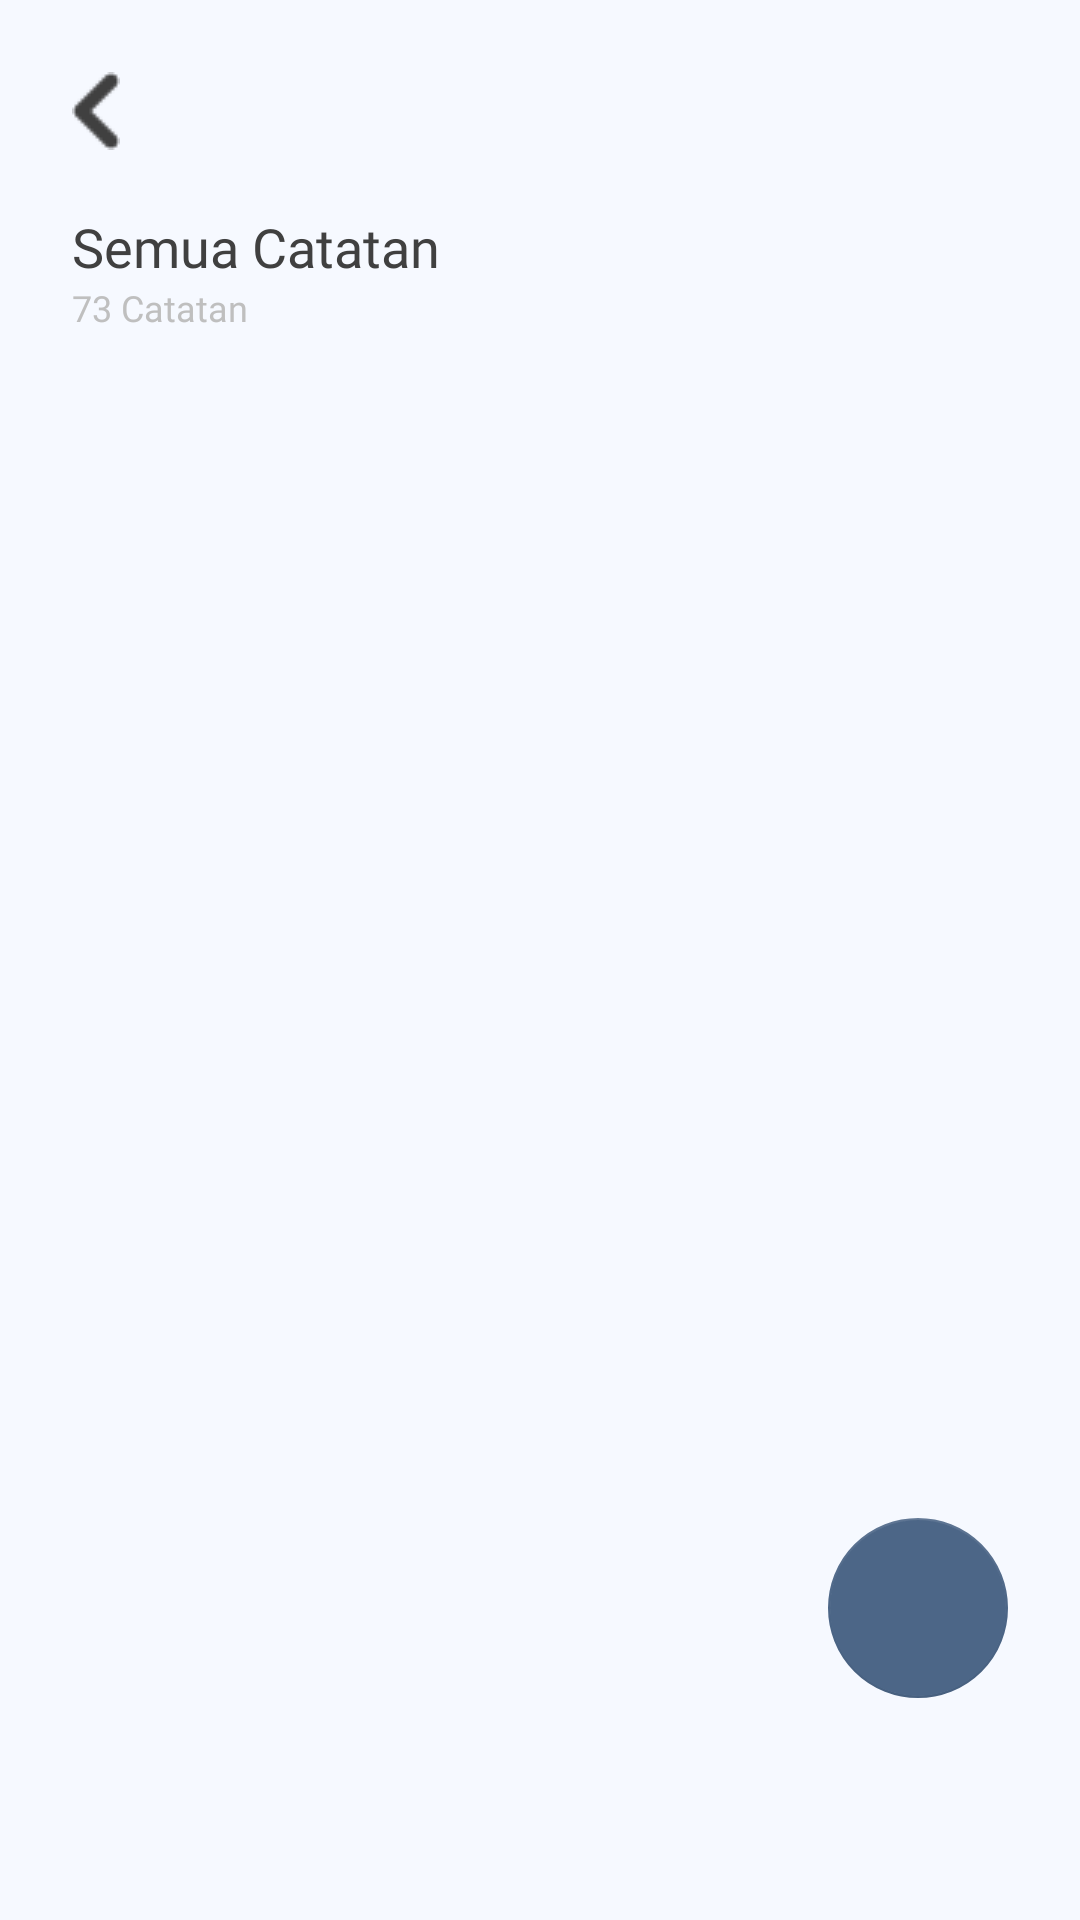

Locate icon controls on the screen. Image size 1080px x 1920px, boxes as (x1, y1, x2, y2).
arrow back from search: (72, 72, 120, 150)
